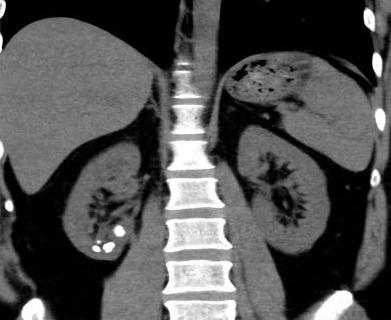Tas_Var: (102, 240, 115, 255), (114, 223, 126, 238), (92, 244, 102, 253), (95, 238, 102, 245)
